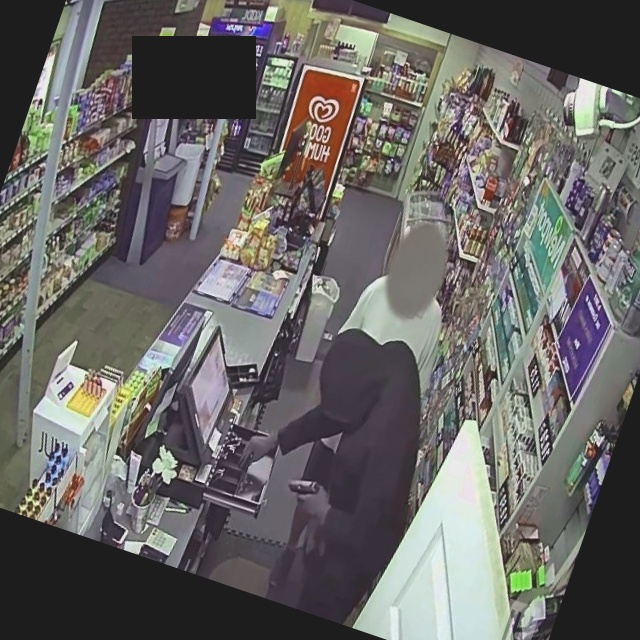gun: (274, 463, 330, 513)
